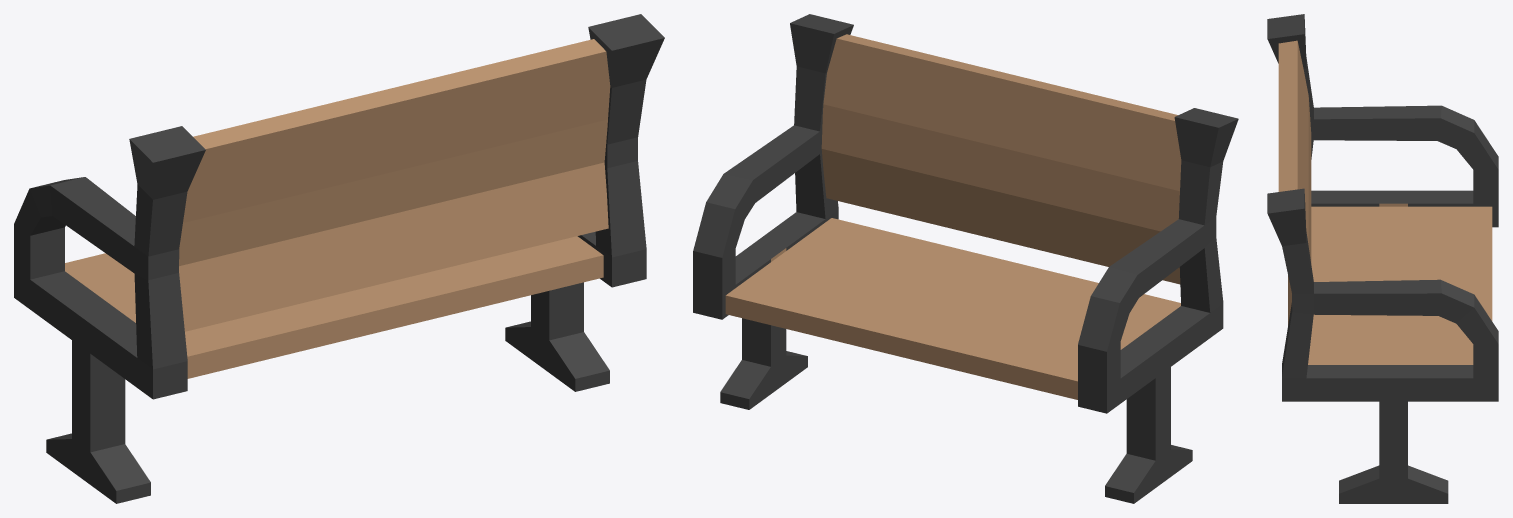
File: Bench.fbx
3 renders of one model, left to right at view 1: azimuth 30°, elevation 25°; view 2: azimuth 150°, elevation 25°; view 3: azimuth 270°, elevation 25°, orthographic. The views are drawn at different scales.
Visible parts, largest first — view 1: Bench; view 2: Bench; view 3: Bench.
Boxes of the visible parts, x1,y1,x2,y2 form: Bench: [14, 14, 664, 503]; Bench: [693, 14, 1238, 503]; Bench: [1267, 14, 1498, 503].
Size of the model in its own units: 409 by 293 by 205.
